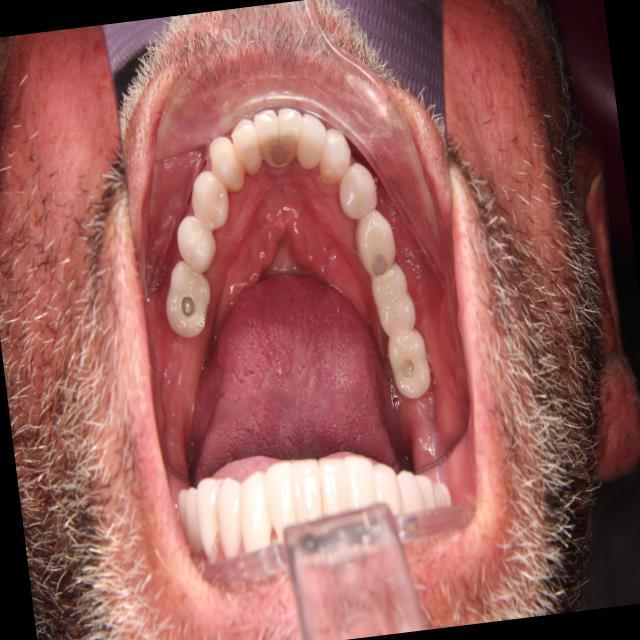tooth: (157, 252, 220, 346), (360, 252, 423, 340), (383, 326, 438, 407), (329, 155, 386, 224), (183, 160, 234, 235), (171, 203, 221, 279), (350, 206, 401, 278), (290, 101, 334, 178), (204, 127, 249, 197), (312, 122, 356, 190), (273, 101, 312, 175), (228, 110, 266, 181), (249, 98, 284, 173)
